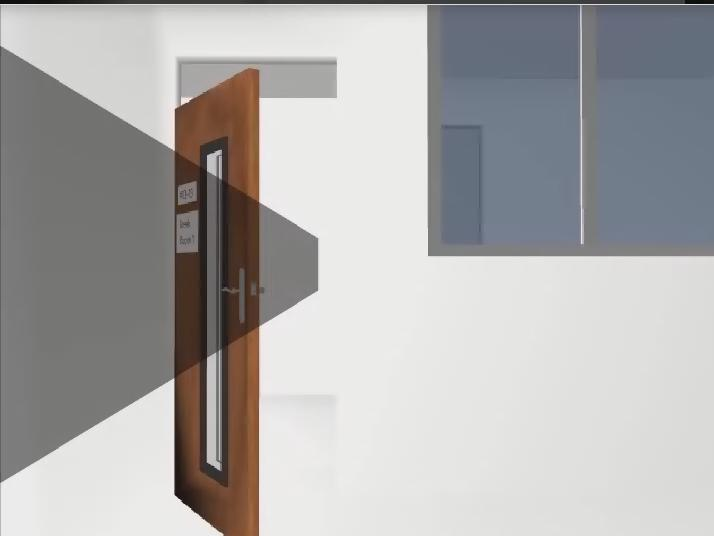door: (174, 69, 259, 536)
